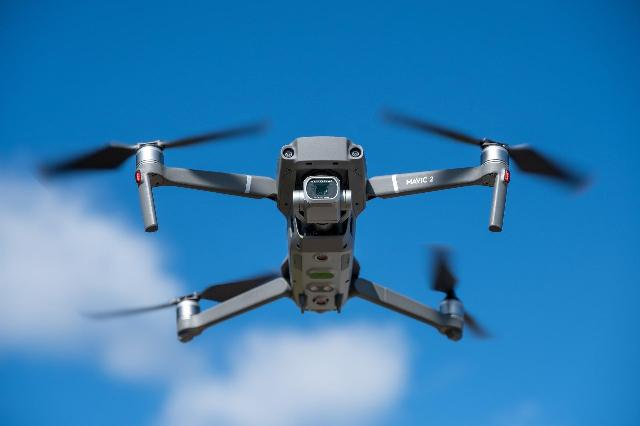drone: (46, 105, 578, 344)
